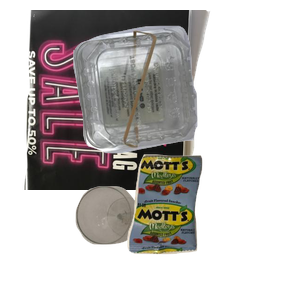glass: (73, 184, 214, 300)
paper: (22, 10, 225, 190)
plastic: (71, 23, 300, 169)
trash: (125, 152, 300, 300)
